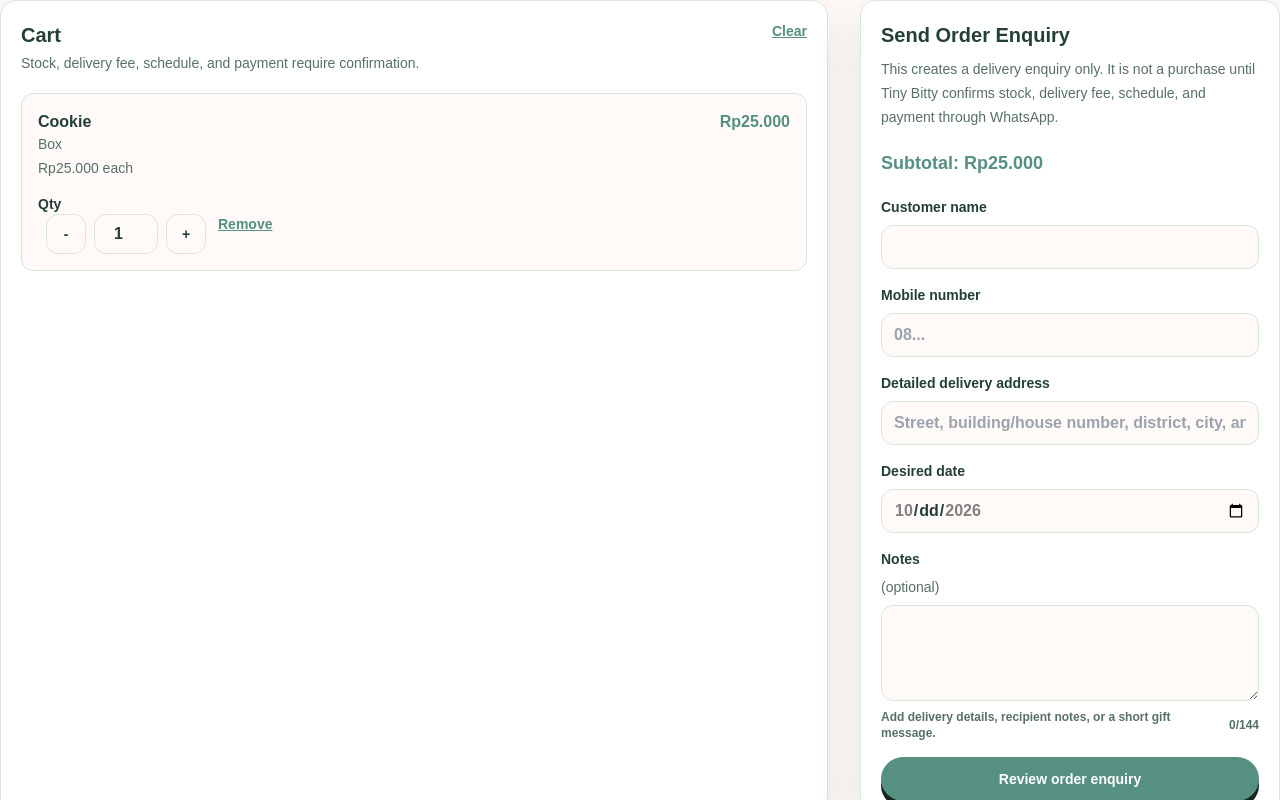
CheckoutForm › shows a 144 character counter for optional notes
Expected: the text "Cookie" is shown, left=38, top=113, right=91, bottom=130
Expected: the text "0/144" is shown, left=1229, top=717, right=1259, bottom=733
Type "Please pack this as a gift" into the text box labelled "Notes". click: (1070, 653)
box: left=881, top=605, right=1259, bottom=701
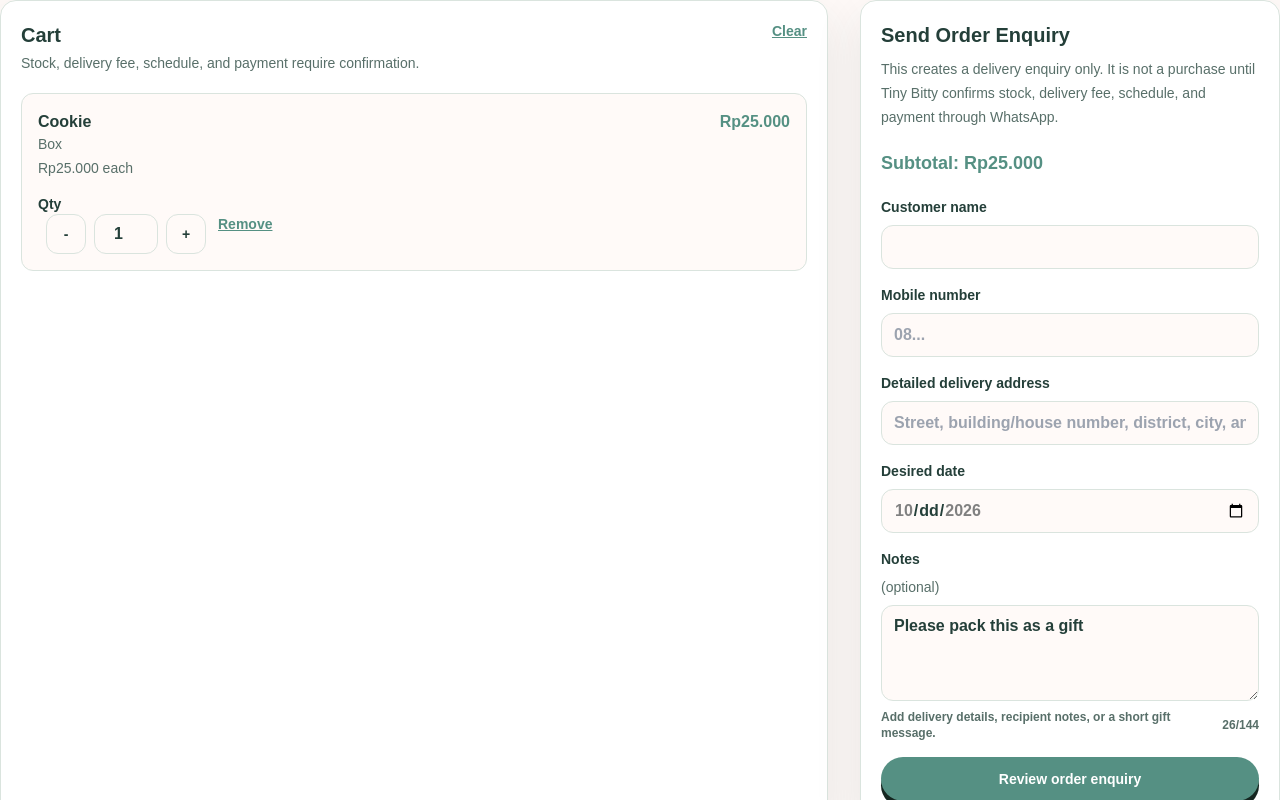
Result: the text "26/144" is shown at left=1222, top=717, right=1259, bottom=733
